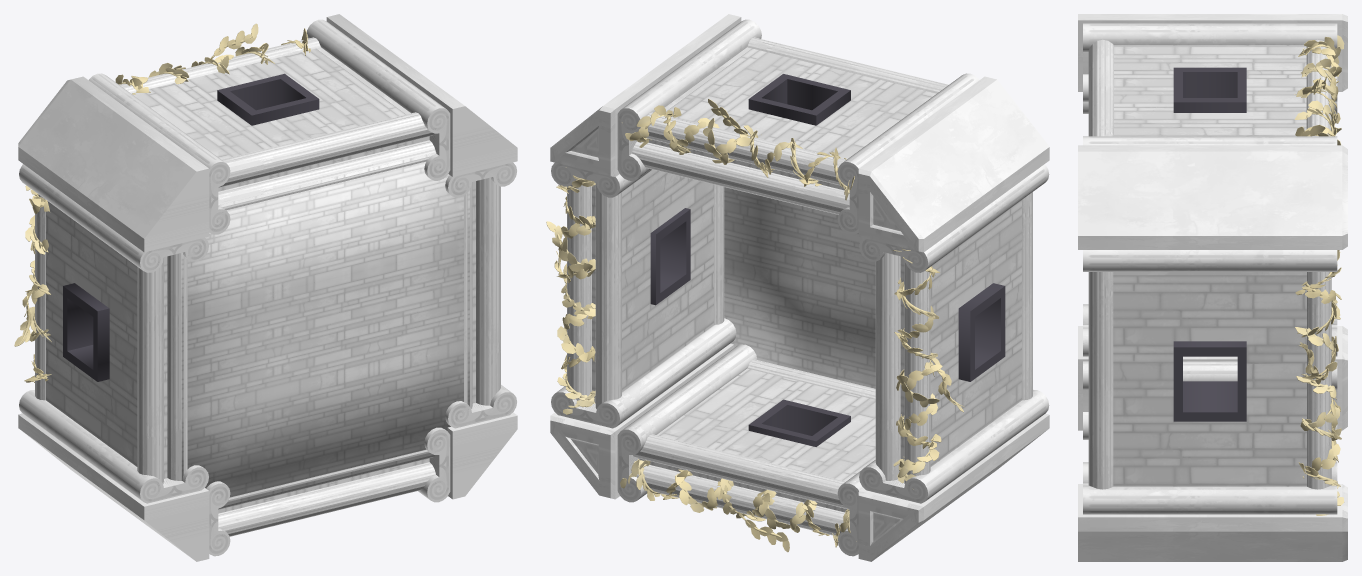
Rendered from LowerCornerRooms.fbx.
3 views of the same model, side by side, from view 1: azimuth 30°, elevation 25°; view 2: azimuth 150°, elevation 25°; view 3: azimuth 270°, elevation 25° (orthographic). The views are drawn at different scales.
Parts seen in each view (by area): view 1: Plane.009; view 2: Plane.009; view 3: Plane.009.
Part boxes in pixels (x1,y1,x2,y2): Plane.009: [14, 14, 517, 561]; Plane.009: [546, 14, 1049, 561]; Plane.009: [1078, 14, 1347, 561].
Size of the model in its own units: 6077 by 6045 by 3240.
Materials: 2 (2 with a texture image).
